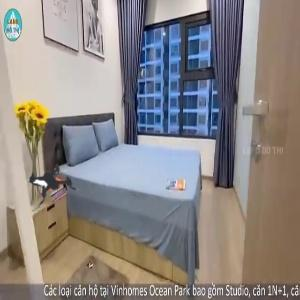drone: (4, 131, 101, 228)
